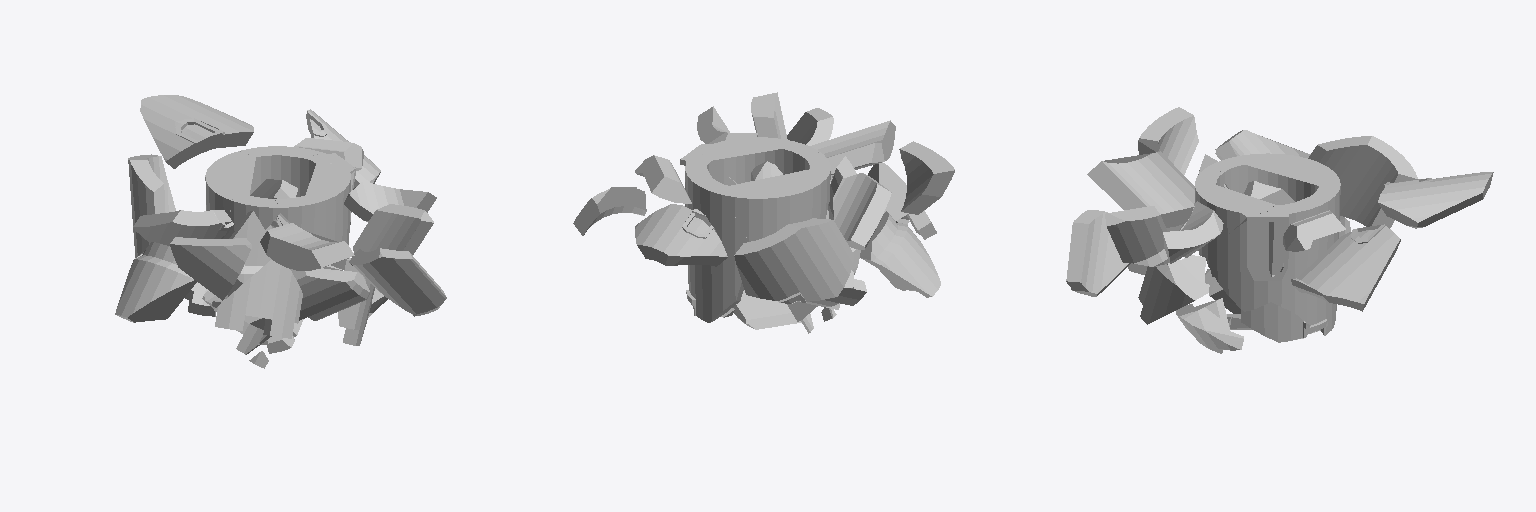
Rendered from destruction_tower_000051.obj.
3 renders of one model, left to right at view 1: azimuth 30°, elevation 25°; view 2: azimuth 150°, elevation 25°; view 3: azimuth 270°, elevation 25°, orthographic.
Visible parts, largest first — view 1: tower.001_cell.025_Mesh.025, tower.001_cell.006_Mesh.006, tower.001_cell.005_Mesh.005, tower.001_cell.021_Mesh.021, tower.001_cell.028_Mesh.028, tower.001_cell.002_Mesh.002, tower.001_cell.011_Mesh.011, tower.001_cell.024_Mesh.024, tower.001_cell_Mesh, tower.001_cell.003_Mesh.003, tower.001_cell.009_Mesh.009, tower.001_cell.015_Mesh.015 (+11 smaller); view 2: tower.001_cell.003_Mesh.003, tower.001_cell.017_Mesh.017, tower.001_cell.015_Mesh.015, tower.001_cell.025_Mesh.025, tower.001_cell.005_Mesh.005, tower.001_cell.028_Mesh.028, tower.001_cell.009_Mesh.009, tower.001_cell.002_Mesh.002, tower.001_cell.024_Mesh.024, tower.001_cell.012_Mesh.012, tower.001_cell.006_Mesh.006, tower.001_cell.029_Mesh.029 (+6 smaller); view 3: tower.001_cell.012_Mesh.012, tower.001_cell.003_Mesh.003, tower.001_cell.024_Mesh.024, tower.001_cell.020_Mesh.020, tower.001_cell.025_Mesh.025, tower.001_cell.021_Mesh.021, tower.001_cell.017_Mesh.017, tower.001_cell.023_Mesh.023, tower.001_cell.015_Mesh.015, tower.001_cell_Mesh, tower.001_cell.028_Mesh.028, tower.001_cell.002_Mesh.002 (+9 smaller).
Boxes of the visible parts, <box> form: tower.001_cell.025_Mesh.025: <box>140,95,253,168</box>; tower.001_cell.006_Mesh.006: <box>214,260,302,338</box>; tower.001_cell.005_Mesh.005: <box>115,242,196,322</box>; tower.001_cell.021_Mesh.021: <box>349,248,446,316</box>; tower.001_cell.028_Mesh.028: <box>275,163,355,241</box>; tower.001_cell.002_Mesh.002: <box>170,237,251,300</box>; tower.001_cell.011_Mesh.011: <box>293,266,369,320</box>; tower.001_cell.024_Mesh.024: <box>260,223,354,270</box>; tower.001_cell_Mesh: <box>353,204,433,254</box>; tower.001_cell.003_Mesh.003: <box>128,154,175,257</box>; tower.001_cell.009_Mesh.009: <box>133,210,234,245</box>; tower.001_cell.015_Mesh.015: <box>205,151,255,238</box>; tower.001_cell.003_Mesh.003: <box>734,218,853,303</box>; tower.001_cell.017_Mesh.017: <box>685,163,748,322</box>; tower.001_cell.015_Mesh.015: <box>724,169,828,241</box>; tower.001_cell.025_Mesh.025: <box>635,204,727,266</box>; tower.001_cell.005_Mesh.005: <box>860,211,940,297</box>; tower.001_cell.028_Mesh.028: <box>701,137,818,183</box>; tower.001_cell.009_Mesh.009: <box>833,173,891,249</box>; tower.001_cell.002_Mesh.002: <box>899,141,954,214</box>; tower.001_cell.024_Mesh.024: <box>810,120,895,177</box>; tower.001_cell.012_Mesh.012: <box>573,187,646,235</box>; tower.001_cell.006_Mesh.006: <box>868,162,936,239</box>; tower.001_cell.029_Mesh.029: <box>733,290,801,329</box>; tower.001_cell.012_Mesh.012: <box>1291,224,1400,311</box>; tower.001_cell.003_Mesh.003: <box>1308,136,1417,228</box>; tower.001_cell.024_Mesh.024: <box>1087,151,1194,227</box>; tower.001_cell.020_Mesh.020: <box>1205,212,1273,311</box>; tower.001_cell.025_Mesh.025: <box>1378,172,1493,228</box>; tower.001_cell.021_Mesh.021: <box>1066,210,1130,296</box>; tower.001_cell.017_Mesh.017: <box>1294,183,1340,335</box>; tower.001_cell.023_Mesh.023: <box>1138,255,1209,324</box>; tower.001_cell.015_Mesh.015: <box>1244,153,1339,201</box>; tower.001_cell_Mesh: <box>1105,206,1168,266</box>; tower.001_cell.028_Mesh.028: <box>1195,170,1274,256</box>; tower.001_cell.002_Mesh.002: <box>1138,107,1198,174</box>.
Bounding box in the file's own units: 103 × 53.37 × 125.